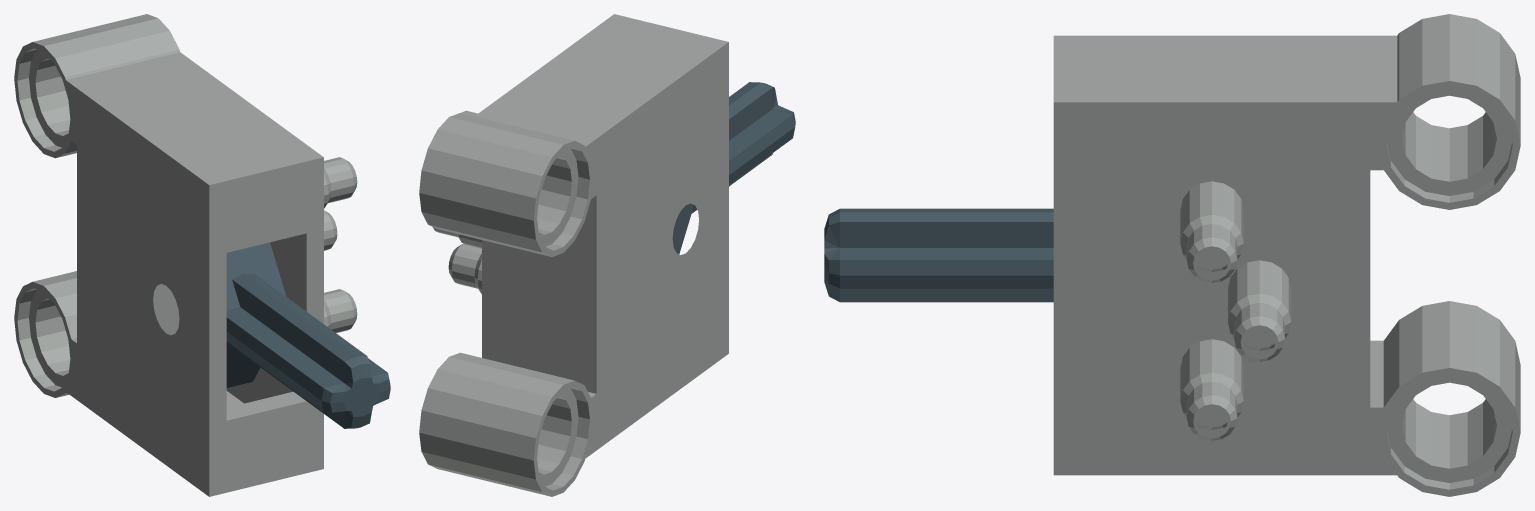
3 renders of one model, left to right at view 1: azimuth 30°, elevation 25°; view 2: azimuth 150°, elevation 25°; view 3: azimuth 270°, elevation 25°, orthographic. The views are drawn at different scales.
Visible parts, largest first — view 1: world; view 2: world; view 3: world.
Part boxes in pixels (<box>): world: <box>14,14,390,496</box>; world: <box>419,14,795,496</box>; world: <box>824,14,1520,496</box>.
Size of the model in its own units: 0.0144 by 0.0232 by 0.0352.
